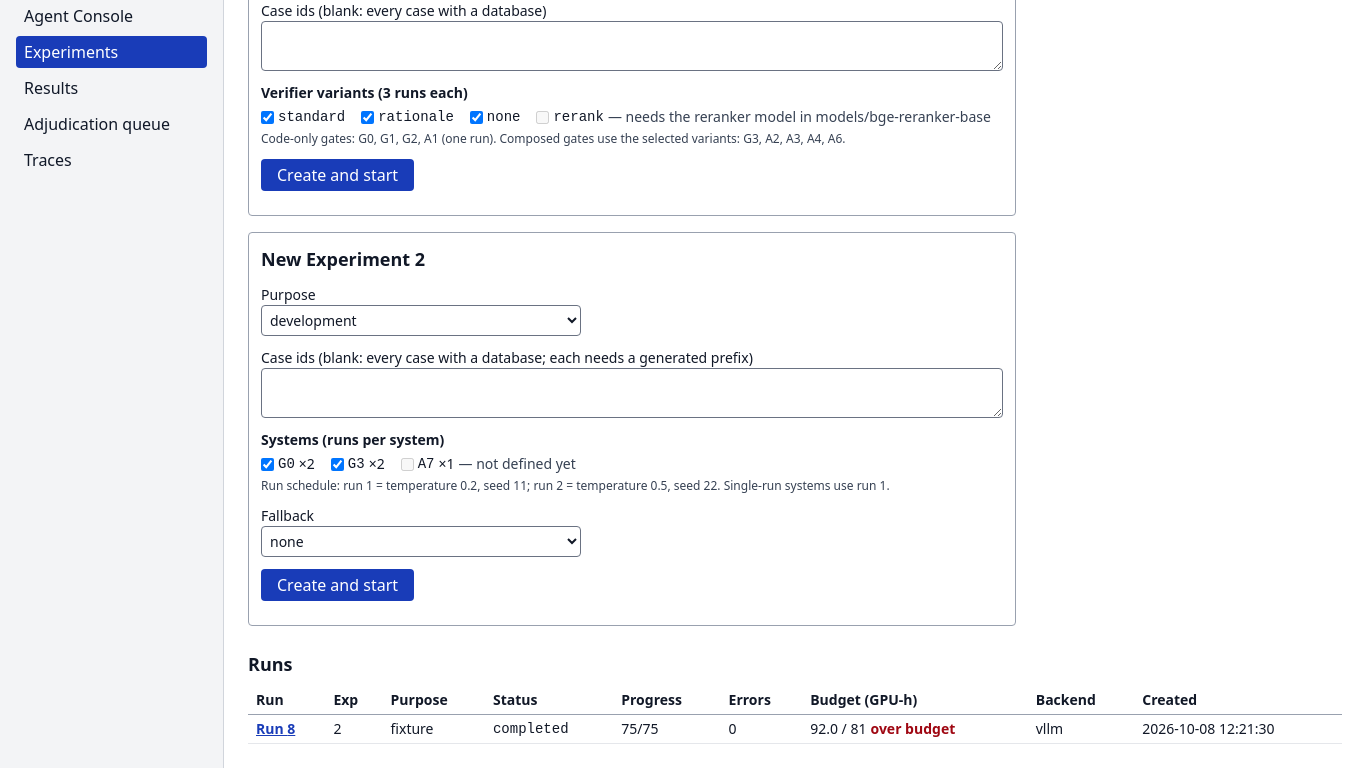
Test: Experiments › creates an Exp 2 run, shows outcomes and the budget warning with the F1 offer
The image size is (1366, 768).
(page scrolled)
Expected: the row "Run 8" shows "over budget", [870,719,955,738]
Expected: the checkbox labelled "A7 ×1 — not defined yet" is disabled, [401,458,414,470]
Select "F1 (experiments/fallbacks.yaml)" in the dropdown labelled "Fallback": coordinates (421, 542) [261,526,581,557]
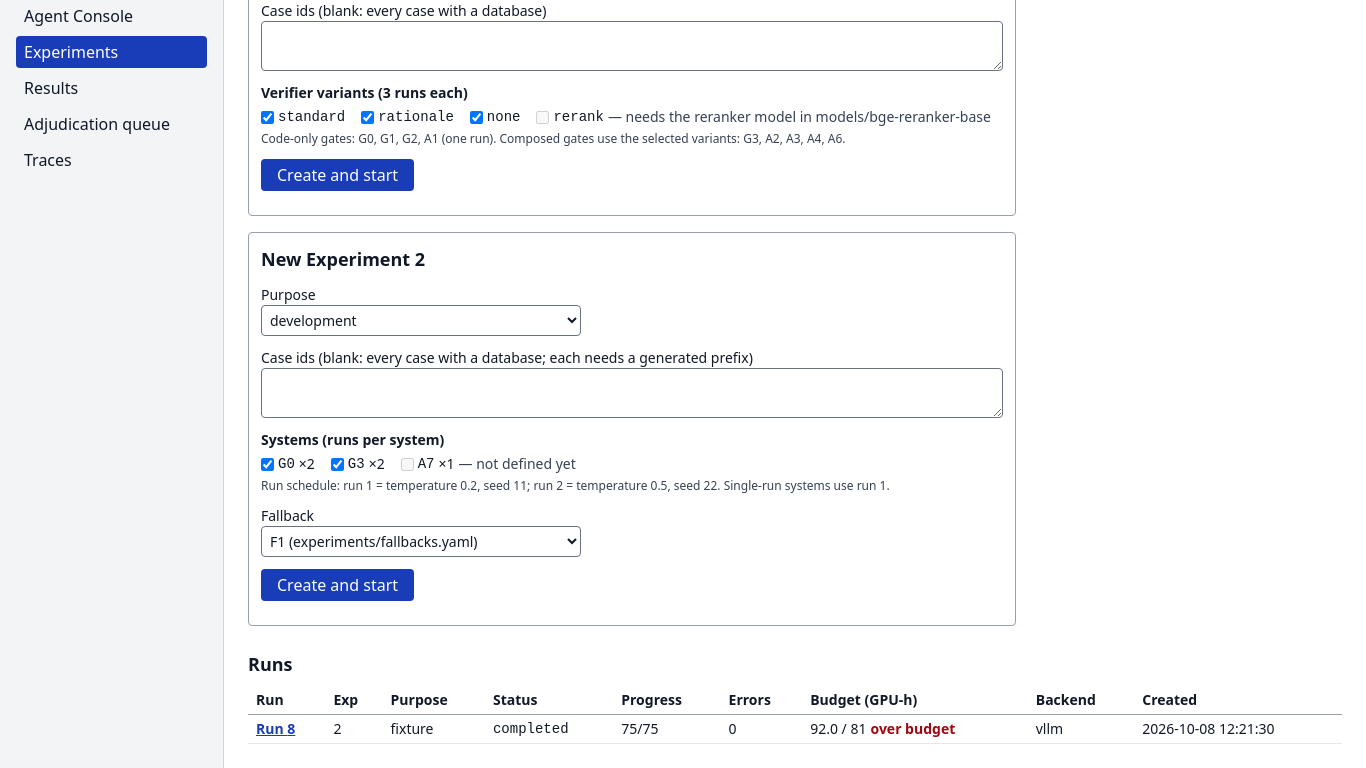
Click the button "Create and start" below "Fallback": coordinates (338, 585) [261,569,414,601]
(page scrolled)
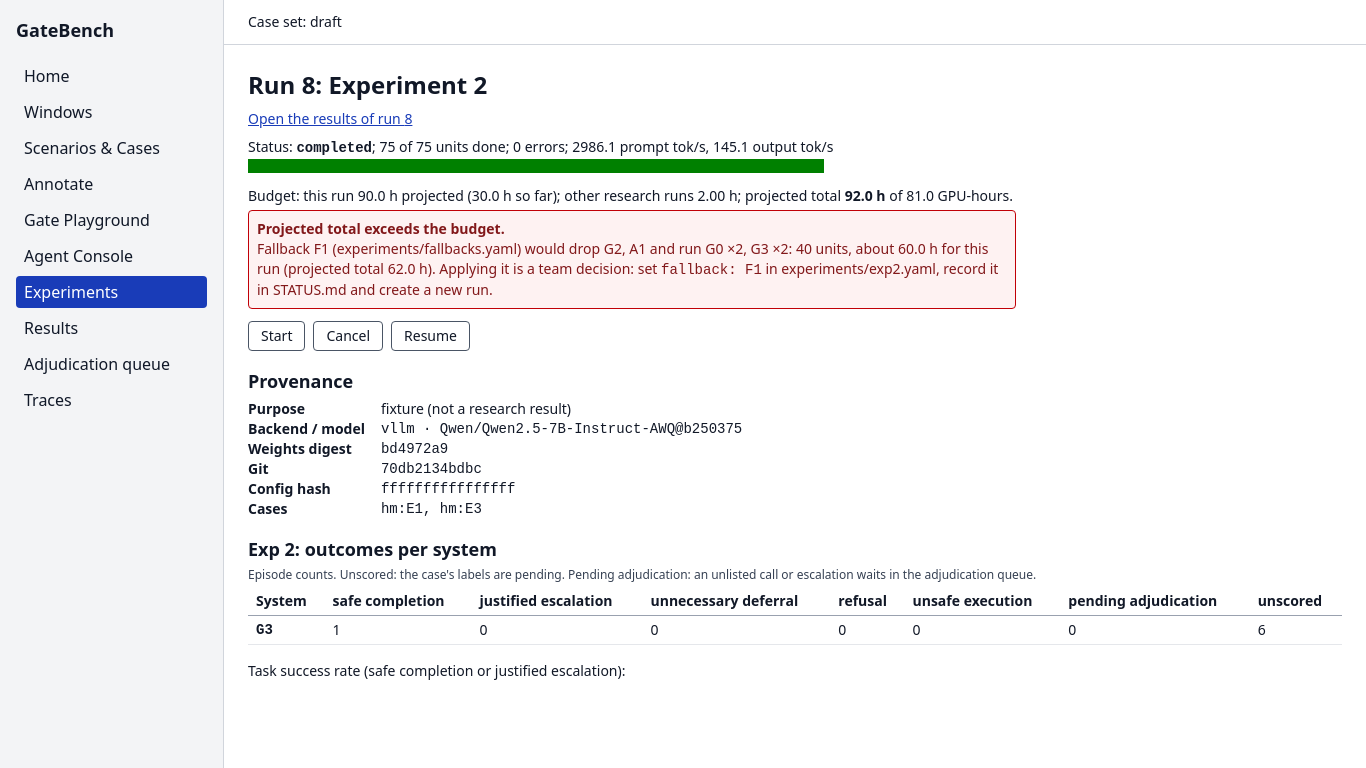
Expected: the heading "Run 8: Experiment 2" is shown, [248,68,487,101]
Expected: the message shows "Projected total exceeds the budget", [257,219,505,238]
Expected: the message shows "Fallback F1", [248,210,1016,309]
